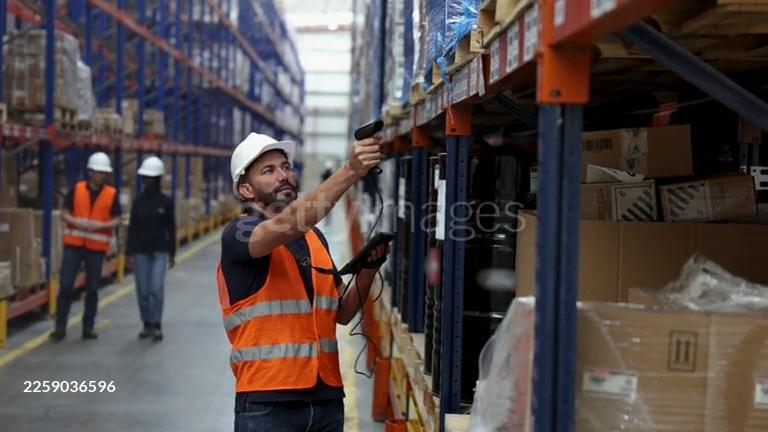helmet: (228, 132, 297, 186), (87, 153, 117, 173), (137, 157, 164, 177)
person: (212, 134, 392, 427), (44, 151, 123, 344), (126, 156, 176, 342)
